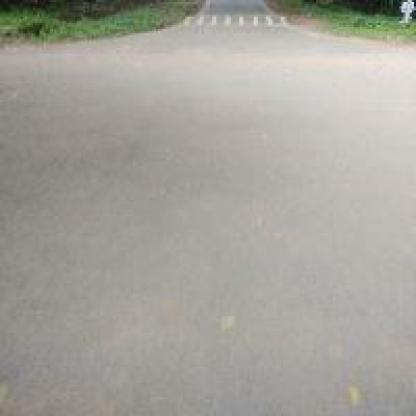Speed Bump: (181, 10, 295, 32)
